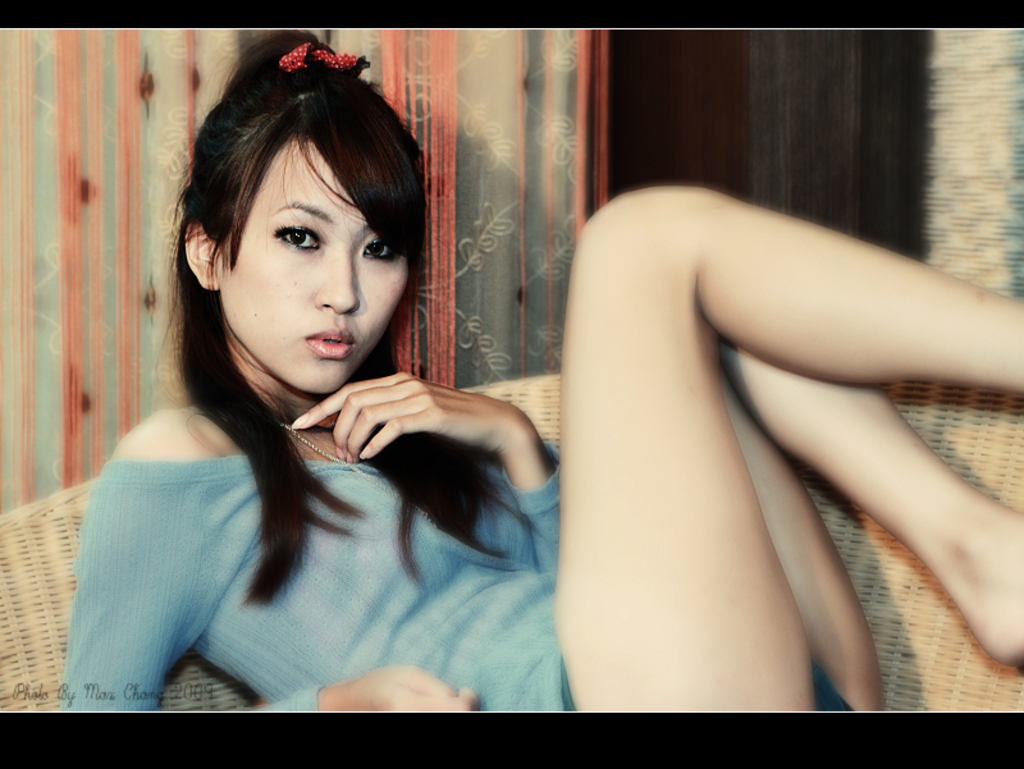Human-face: (218, 132, 407, 398)
